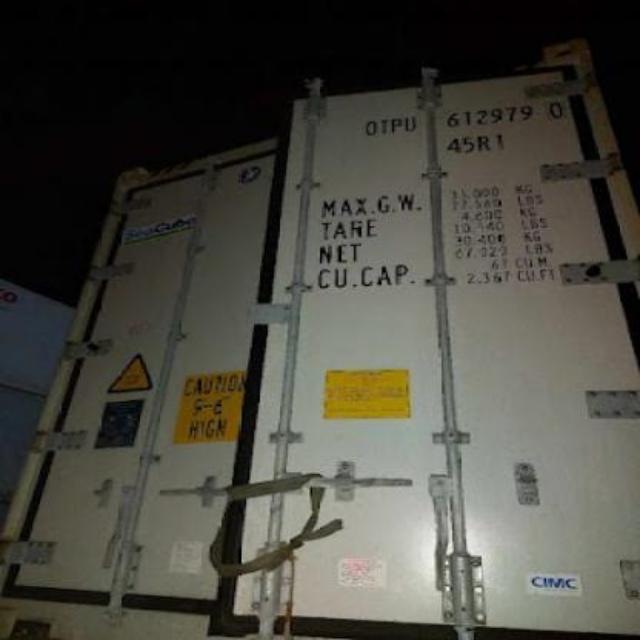0: (548, 98, 566, 118)
1: (462, 106, 474, 128)
2: (474, 100, 488, 130)
6: (446, 108, 458, 132)
7: (502, 100, 516, 124)
9: (518, 100, 534, 124), (488, 103, 502, 127)
O: (362, 115, 376, 138)
P: (388, 115, 402, 138)
T: (376, 115, 389, 136)
U: (402, 114, 416, 136)
